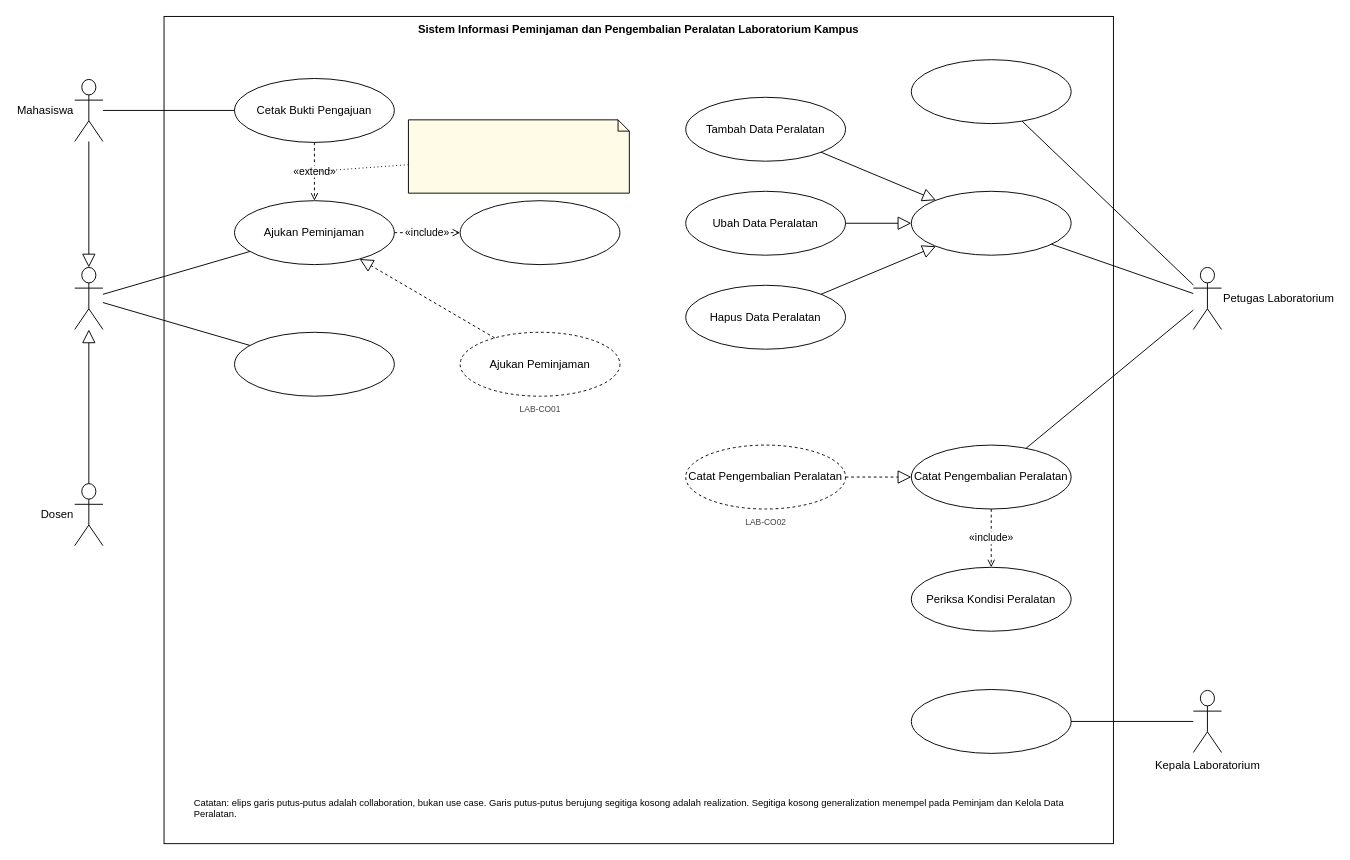
The diagram is 1350 pixels wide and 860 high, and some of its shapes have lost their labels. Each missing label, with the box of its shape:
condition: [mahasiswa memilih cetak] extension point: Bukti pengajuan tersedia: (407, 119, 629, 193)
Kelola Data Peralatan: (910, 190, 1071, 255)
Lihat Ketersediaan Peralatan: (234, 331, 394, 396)
Lihat Laporan Peminjaman: (910, 689, 1071, 753)
Peminjam: (74, 266, 103, 329)
Periksa Ketersediaan: (459, 200, 620, 265)
Proses Keputusan Peminjaman: (910, 59, 1071, 124)
